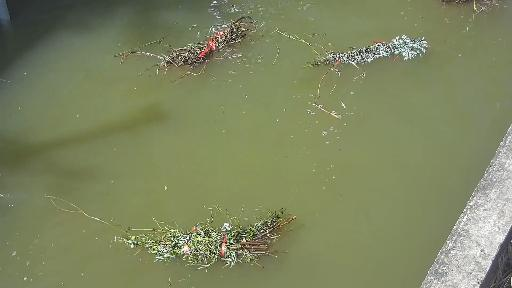twig: (53, 191, 322, 266), (102, 11, 262, 84), (294, 43, 456, 99), (377, 0, 493, 21)
